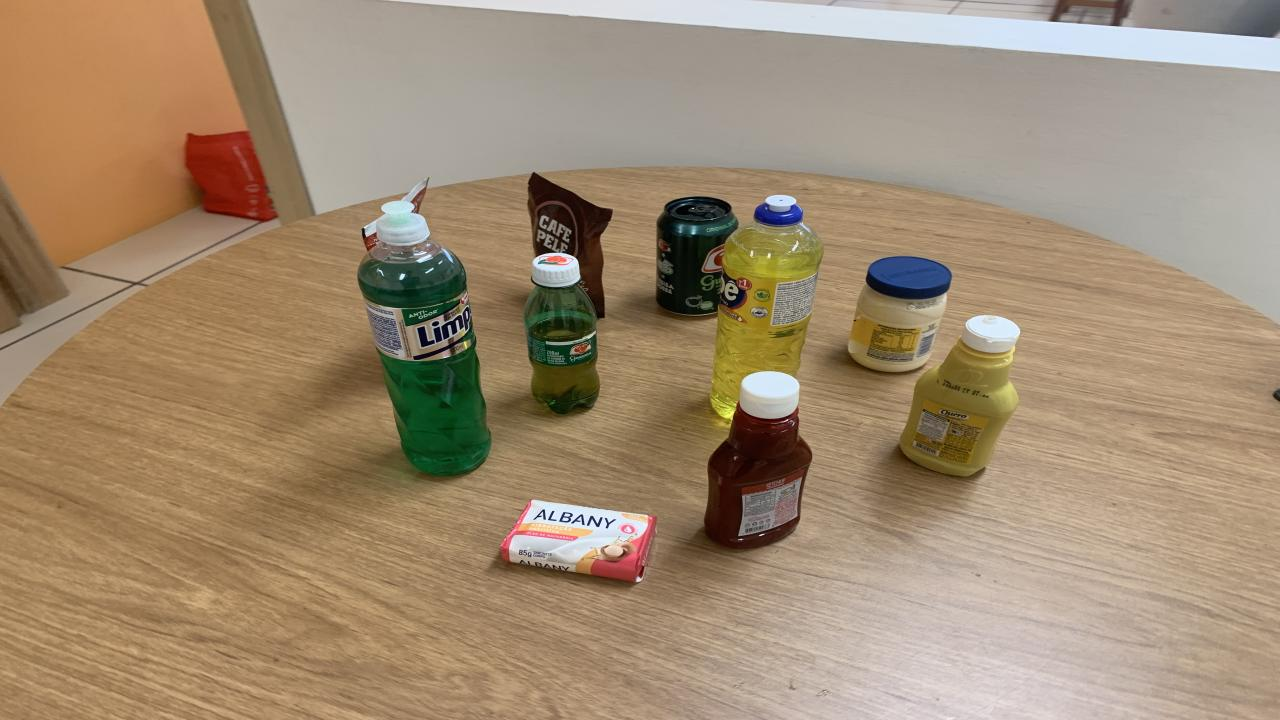Coffee-Pantry_Items: (528, 172, 612, 317)
Detergent-Cleanup_Items: (358, 201, 490, 476), (710, 195, 822, 418)
Guarana-Drinks: (525, 253, 600, 414)
Guarana_Can-Drinks: (658, 197, 738, 315)
Ketchup-Pantry_Items: (705, 371, 812, 548)
Mayonnaise-Pantry_Items: (848, 257, 952, 371)
Mustard-Pantry_Items: (900, 315, 1020, 476)
Soap-Cleanup_Items: (500, 501, 658, 583)
